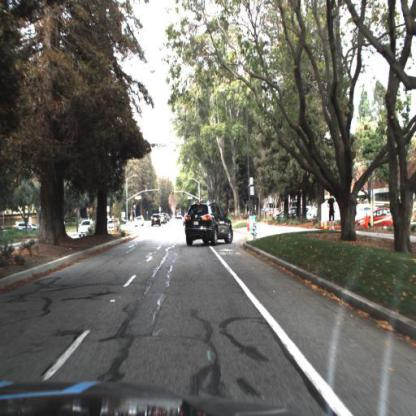car: (185, 200, 234, 246), (359, 206, 402, 232), (358, 208, 397, 230), (76, 219, 97, 239), (106, 218, 124, 236), (151, 212, 162, 228)
pedestrian: (328, 192, 339, 236)
